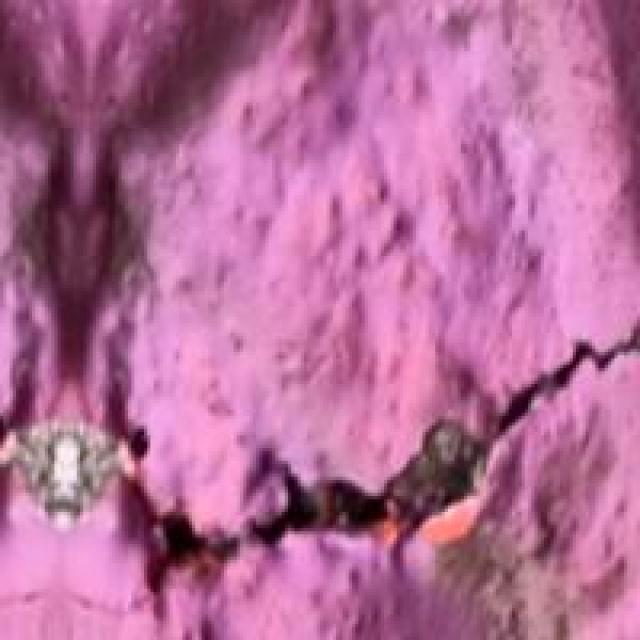SurfaceCrack: (96, 284, 640, 580)
